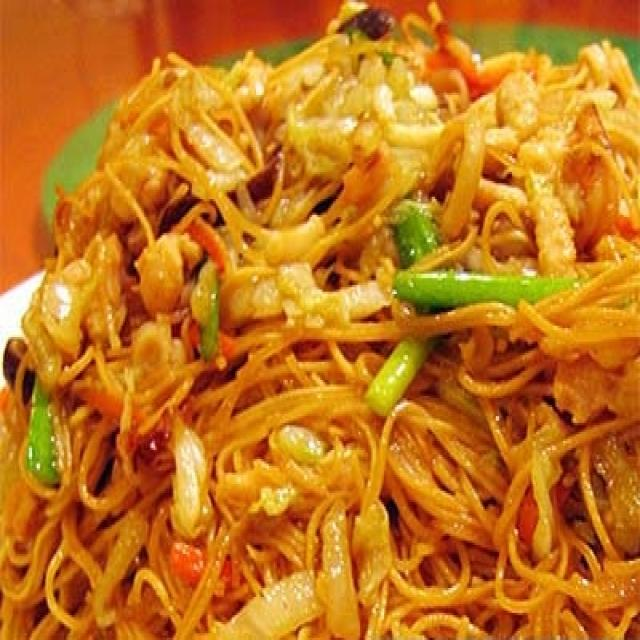面条主食: (16, 9, 634, 631)
